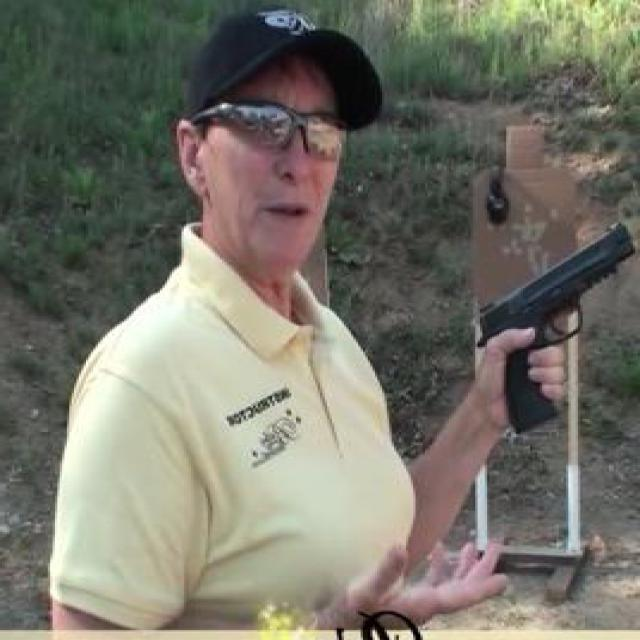Gun: (472, 218, 636, 436)
